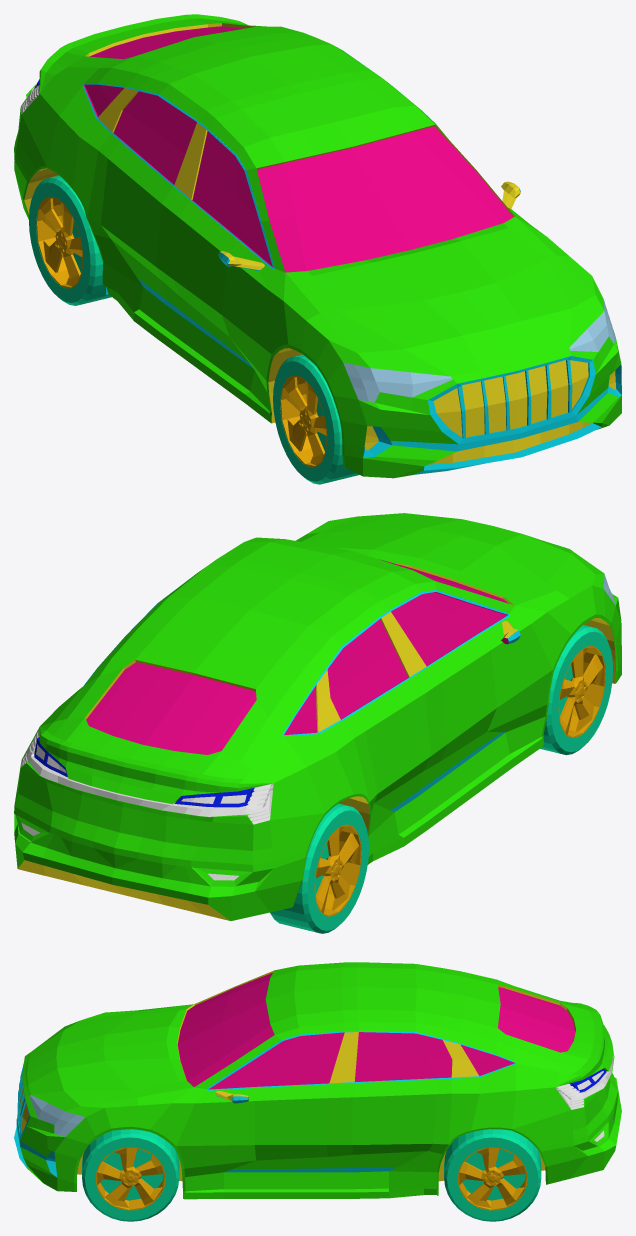
Rendered from Car_4_Electric.fbx.
3 views of the same model, one above another, from view 1: azimuth 30°, elevation 25°; view 2: azimuth 150°, elevation 25°; view 3: azimuth 270°, elevation 25° (orthographic). The views are drawn at different scales.
Visible parts, largest first — view 1: Car_4_Body_Electric, Car_4_Wheel_RR, Car_4_Wheel_FR; view 2: Car_4_Body_Electric, Car_4_Wheel_RR, Car_4_Wheel_FR, Car_4_Brake_Light; view 3: Car_4_Body_Electric, Car_4_Wheel_RL, Car_4_Wheel_FL, Car_4_Brake_Light.
Boxes of the visible parts, <box> form: Car_4_Body_Electric: <box>14,14,621,478</box>; Car_4_Wheel_RR: <box>29,175,111,305</box>; Car_4_Wheel_FR: <box>273,354,359,484</box>; Car_4_Body_Electric: <box>14,513,621,920</box>; Car_4_Wheel_RR: <box>270,803,368,933</box>; Car_4_Wheel_FR: <box>540,625,612,755</box>; Car_4_Brake_Light: <box>21,729,273,824</box>; Car_4_Body_Electric: <box>14,962,621,1199</box>; Car_4_Wheel_RL: <box>444,1129,541,1221</box>; Car_4_Wheel_FL: <box>82,1129,179,1221</box>; Car_4_Brake_Light: <box>555,1052,613,1109</box>.
Size of the model in its own units: 201 by 163 by 483.
